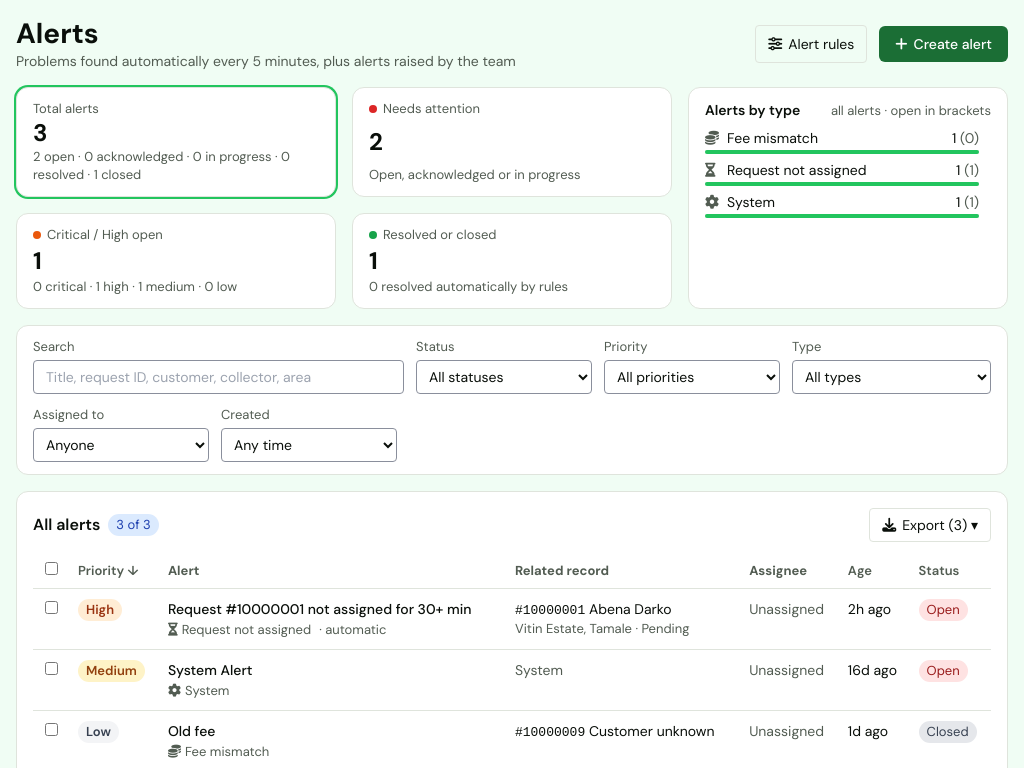
Scenario: bulk-acknowledges checked rows and the export menu offers CSV and PDF
Step 1. Click the checkbox named "Select all alerts" → {"x": 52, "y": 568}, box [45, 562, 58, 575]
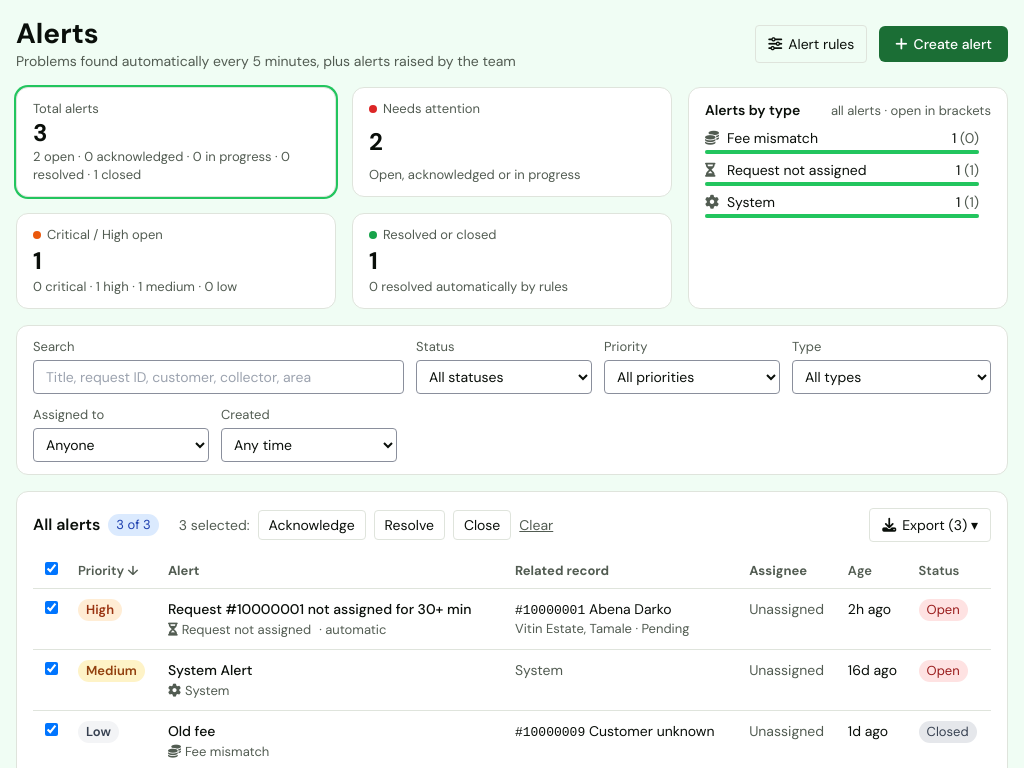
Step 2. Click the button "Acknowledge" → {"x": 312, "y": 525}, box [258, 510, 366, 540]
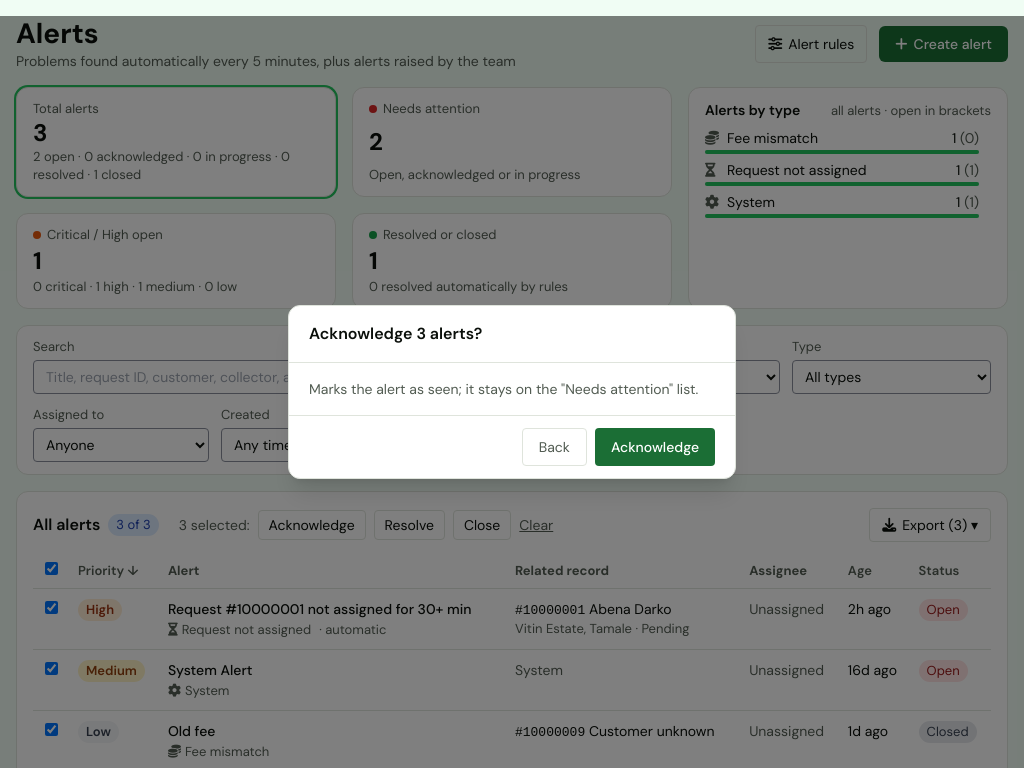
Step 3. Click the button "Acknowledge" → {"x": 655, "y": 447}, box [595, 428, 715, 466]
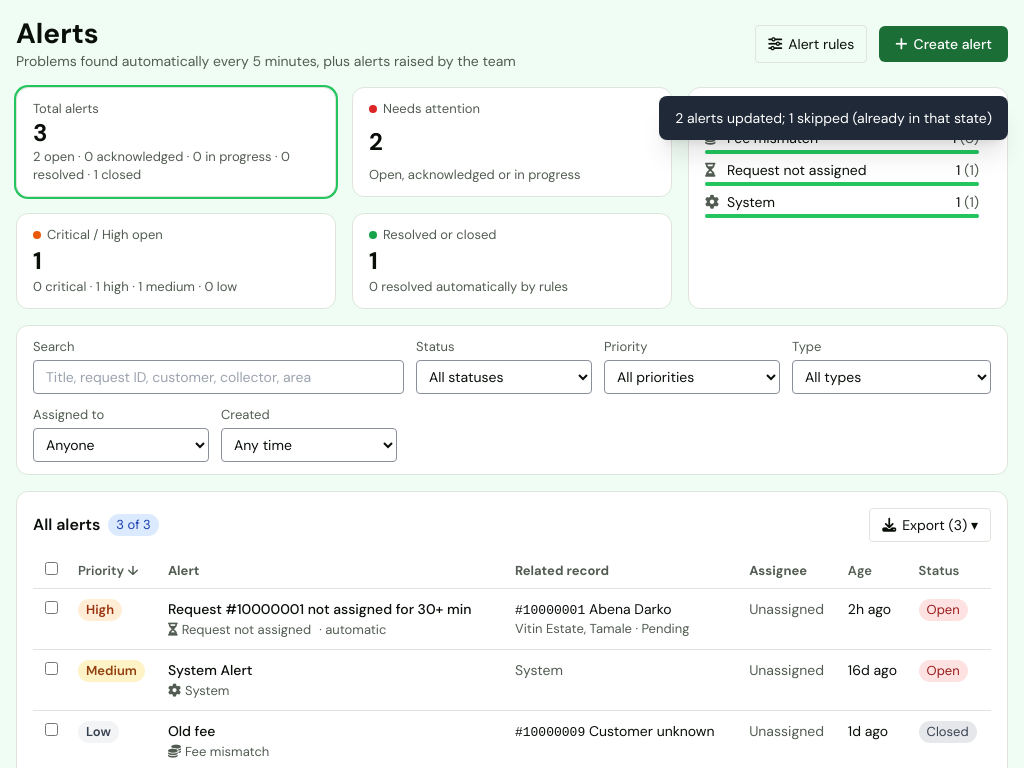
Expected: the text "2 alerts updated; 1 skipped (already in that state)" is shown, [659, 96, 1008, 140]
Step 4. Click the button "Export (3) ▾" → {"x": 930, "y": 525}, box [869, 508, 991, 542]
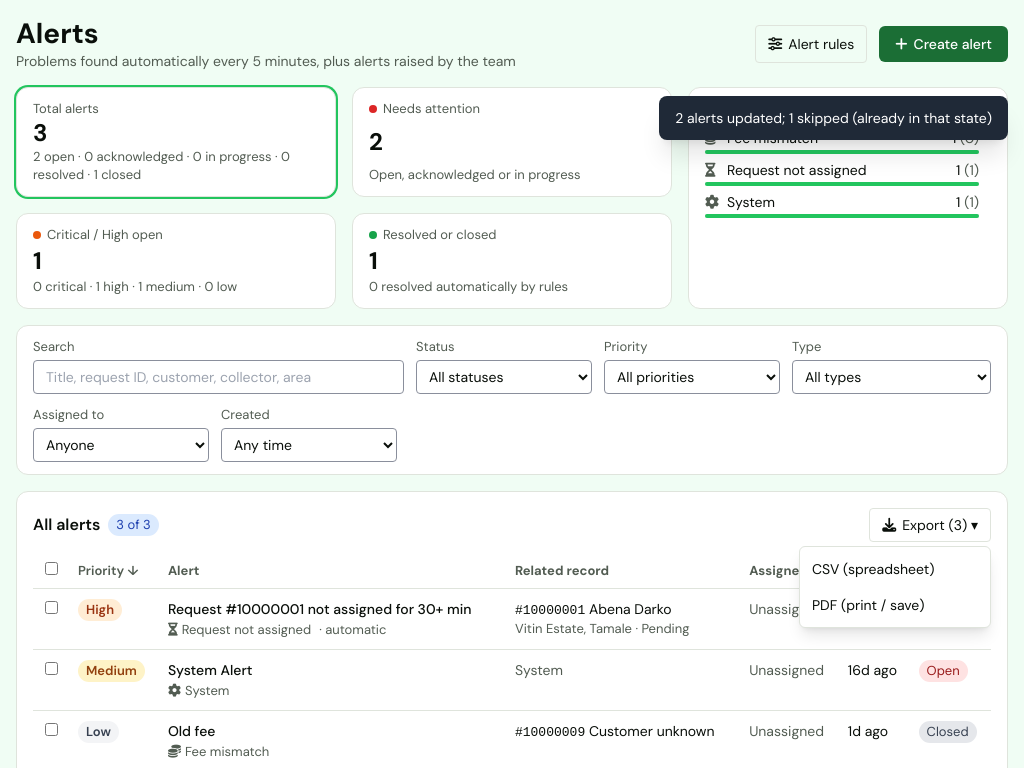
Expected: the menu item "CSV (spreadsheet)" is shown, [800, 551, 990, 587]
Expected: the menu item "PDF (print / save)" is shown, [800, 587, 990, 623]
